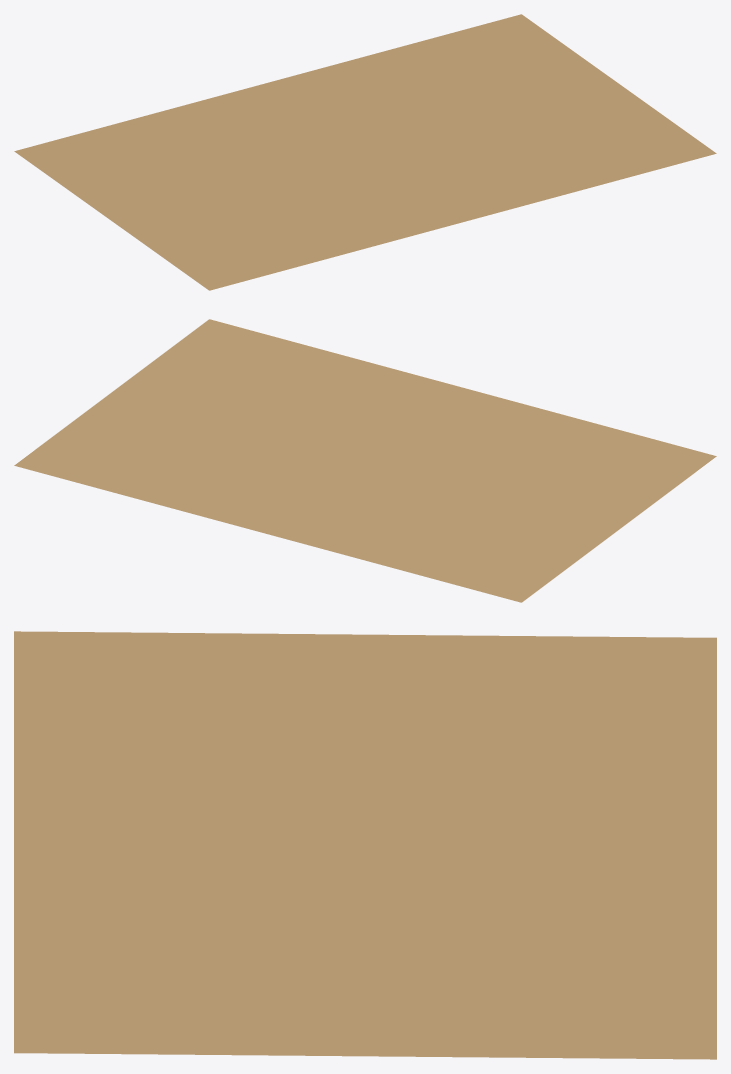
Rendered from prior_collision.glb.
The picture shows the model from 3 angles, top to bottom: view 1: azimuth 30°, elevation 25°; view 2: azimuth 150°, elevation 25°; view 3: azimuth 270°, elevation 25°; orthographic projection. The views are drawn at different scales.
Visible parts, largest first — view 1: ground_ORBITAL; view 2: ground_ORBITAL; view 3: ground_ORBITAL.
Part boxes in pixels (x1,y1,x2,y2): ground_ORBITAL: [14, 14, 716, 290]; ground_ORBITAL: [14, 319, 716, 602]; ground_ORBITAL: [14, 631, 716, 1059].
Bounding box in the file's own units: 60 × 1.9 × 40.
